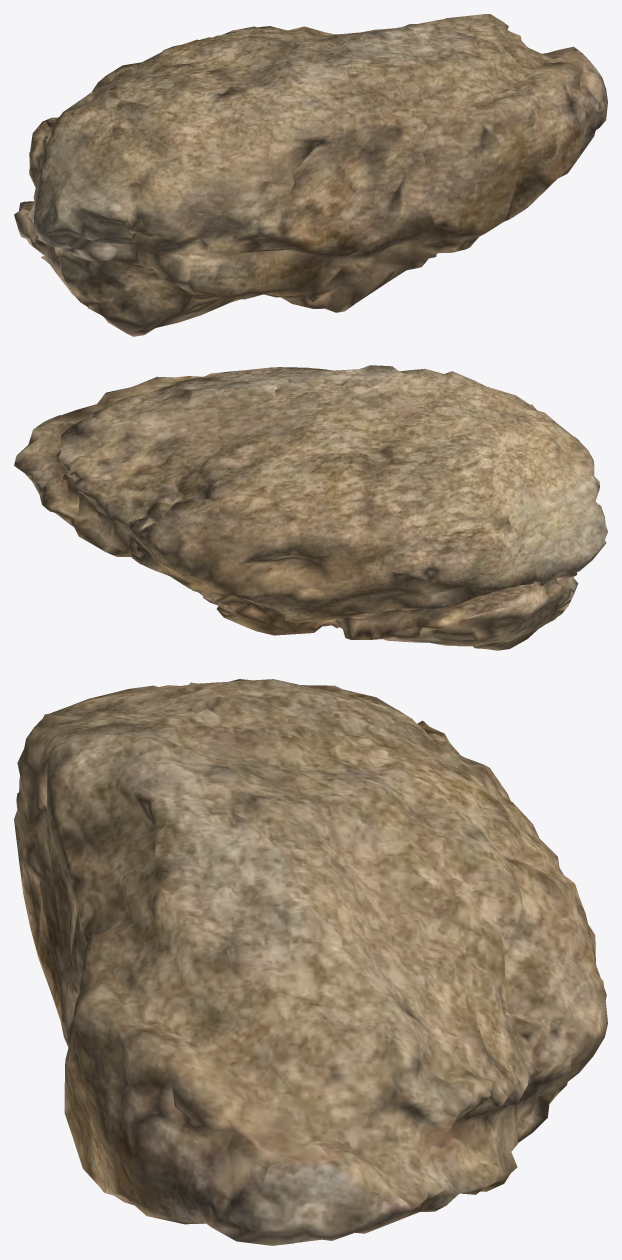
File: namaqualand-boulder-05.lod1.glb
3 views of the same model, one above another, from view 1: azimuth 30°, elevation 25°; view 2: azimuth 150°, elevation 25°; view 3: azimuth 270°, elevation 25° (orthographic). The views are drawn at different scales.
Parts seen in each view (by area): view 1: namaqualand_boulder_05; view 2: namaqualand_boulder_05; view 3: namaqualand_boulder_05.
Boxes of the visible parts, left/top/right/bottom form: namaqualand_boulder_05: left=14, top=14, right=607, bottom=336; namaqualand_boulder_05: left=14, top=365, right=607, bottom=650; namaqualand_boulder_05: left=14, top=679, right=607, bottom=1245.
Size of the model in its own units: 1.36 by 0.5384 by 0.7477.
1 material, 1 textured.
